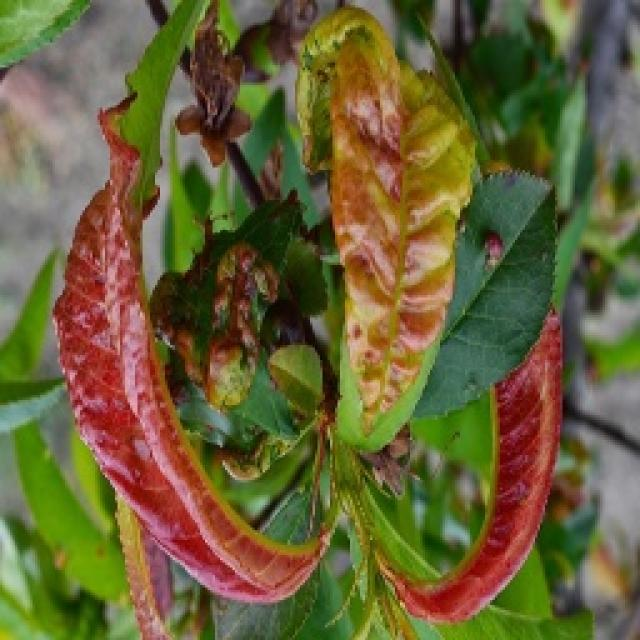peach_leaf_curl: (50, 0, 568, 638)
